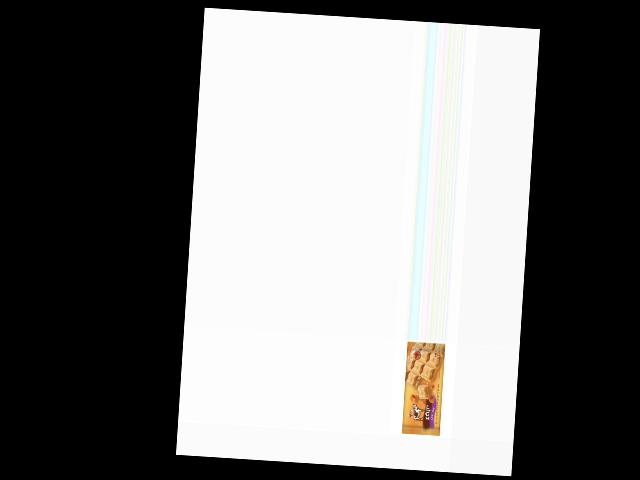chocolate: (401, 341, 448, 439)
